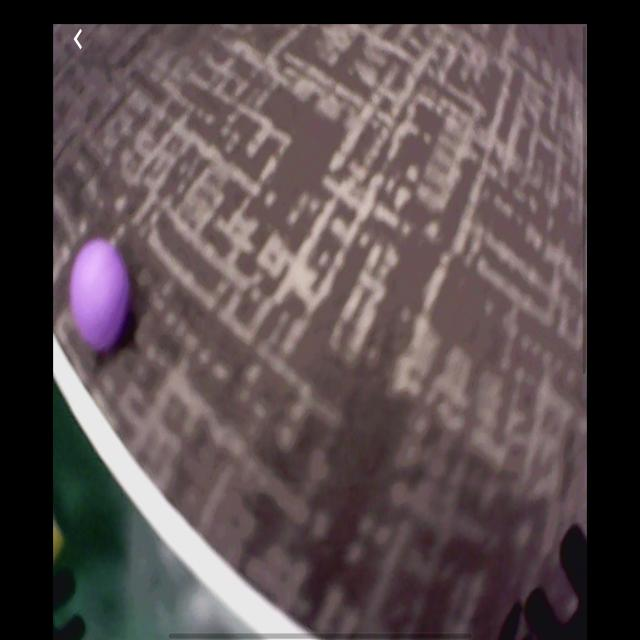ball: (71, 240, 128, 351)
